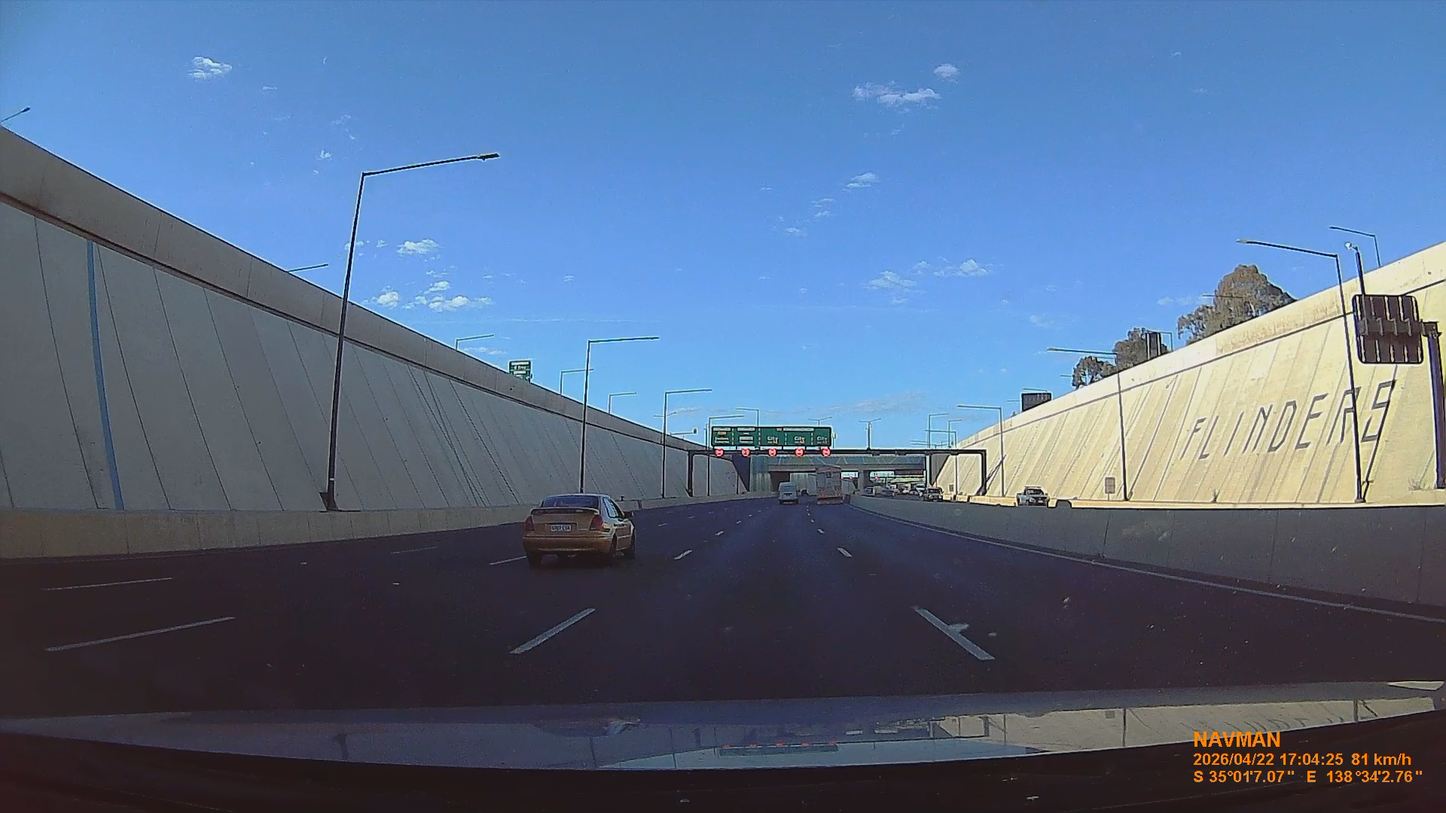road barriers: (865, 498, 1444, 607)
